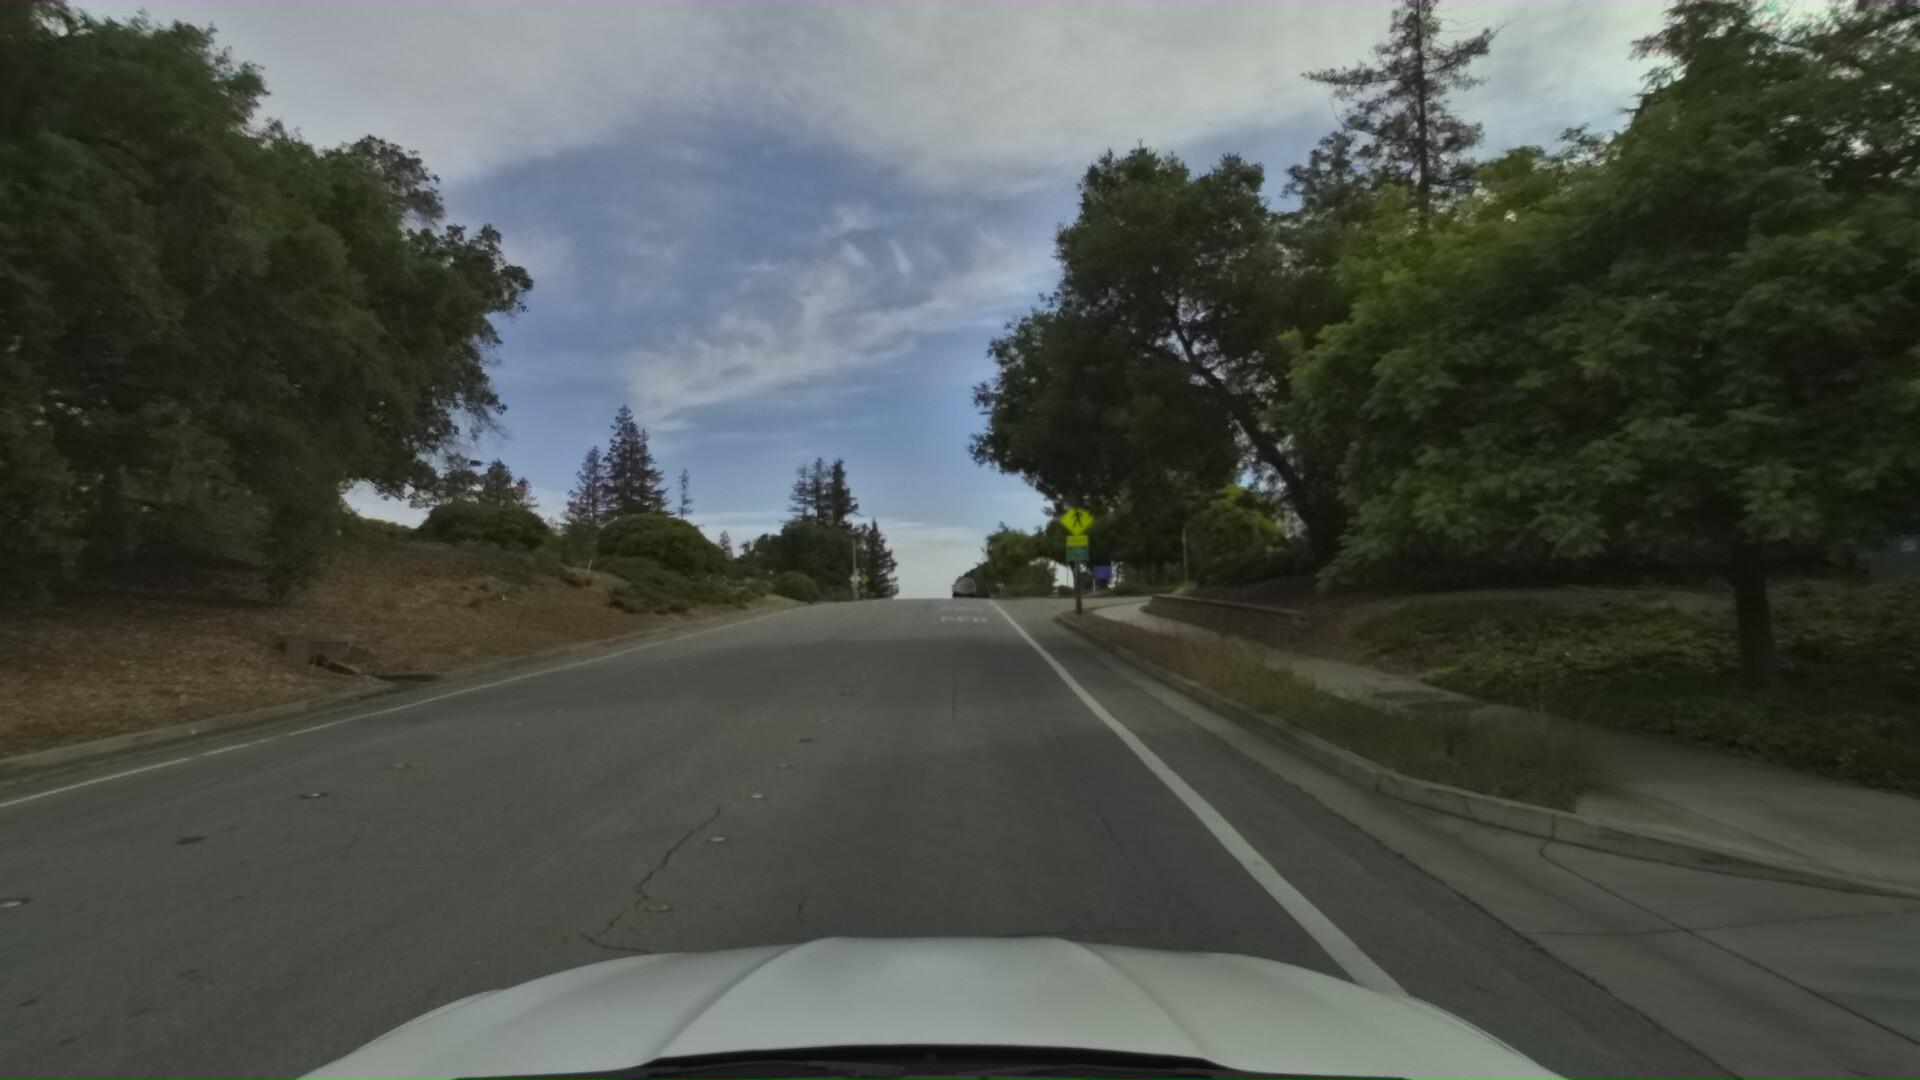car: (948, 562, 976, 591)
